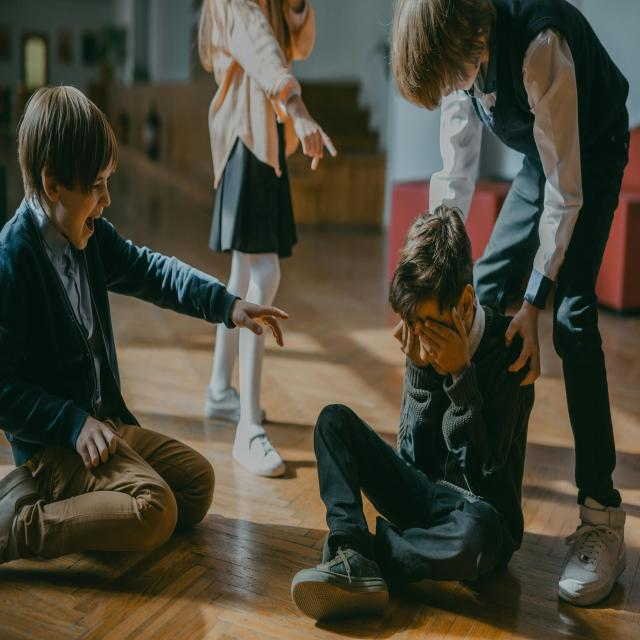sit: (0, 82, 220, 578), (291, 199, 533, 627)
stand: (379, 0, 637, 621), (193, 4, 304, 490)
